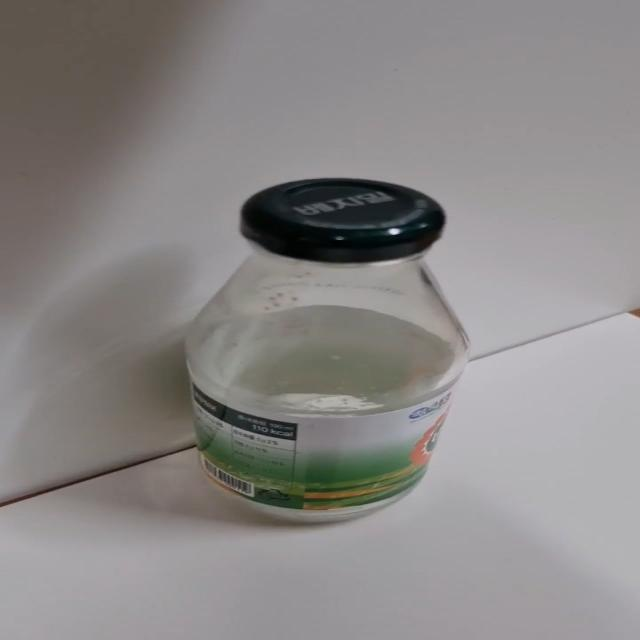Glass: (176, 177, 478, 527)
